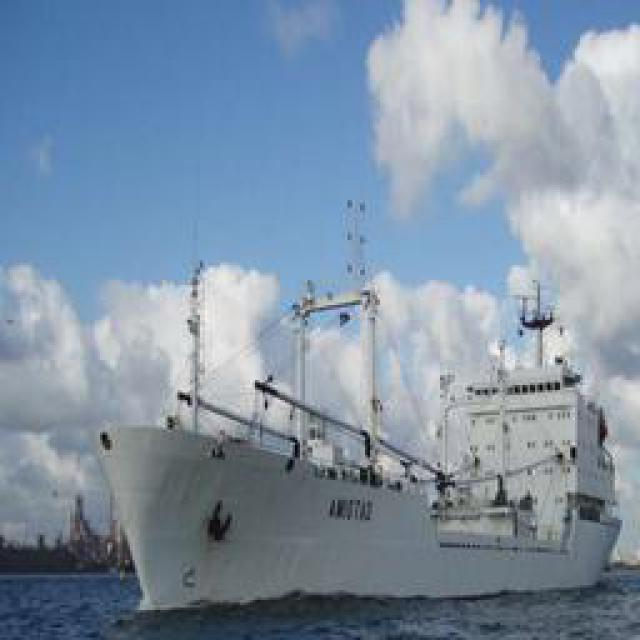Ship: (101, 244, 616, 604)
